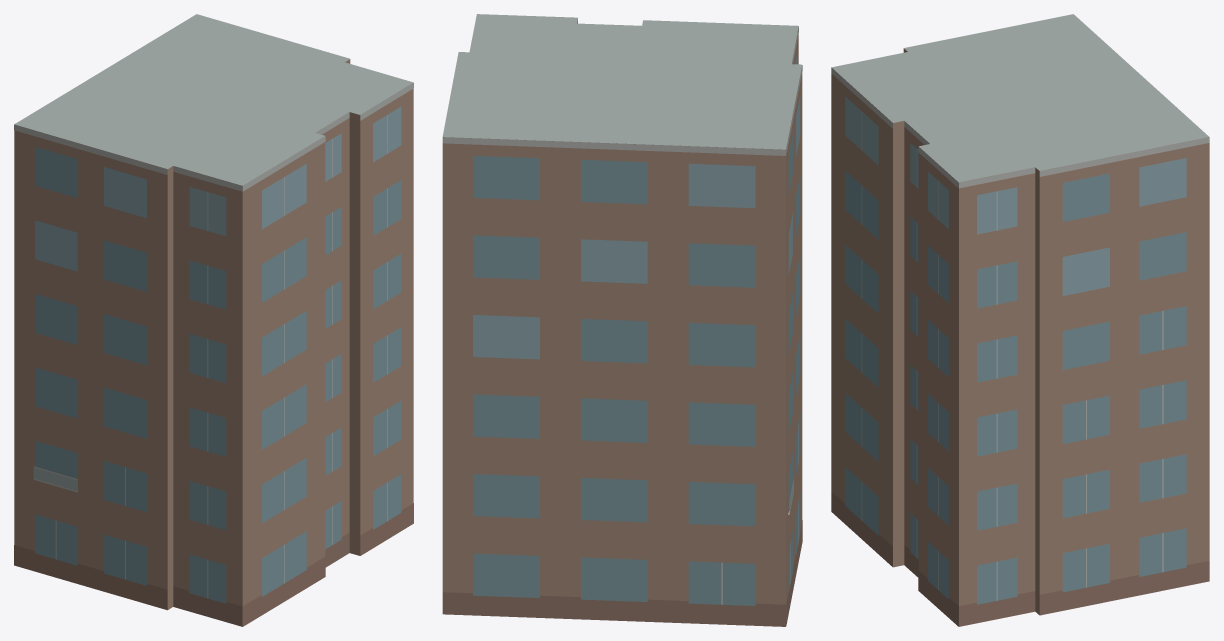
Rendered from survey-upis-32730137.glb.
3 renders of one model, left to right at view 1: azimuth 30°, elevation 25°; view 2: azimuth 150°, elevation 25°; view 3: azimuth 270°, elevation 25°, orthographic. The views are drawn at different scales.
Parts seen in each view (by area): view 1: survey-upis-32730137.tmp; view 2: survey-upis-32730137.tmp; view 3: survey-upis-32730137.tmp.
Part boxes in pixels (x1,y1,x2,y2): survey-upis-32730137.tmp: (14, 14, 413, 626); survey-upis-32730137.tmp: (442, 14, 802, 626); survey-upis-32730137.tmp: (831, 14, 1209, 626).
Size of the model in its own units: 14.89 by 18.3 by 14.12.
